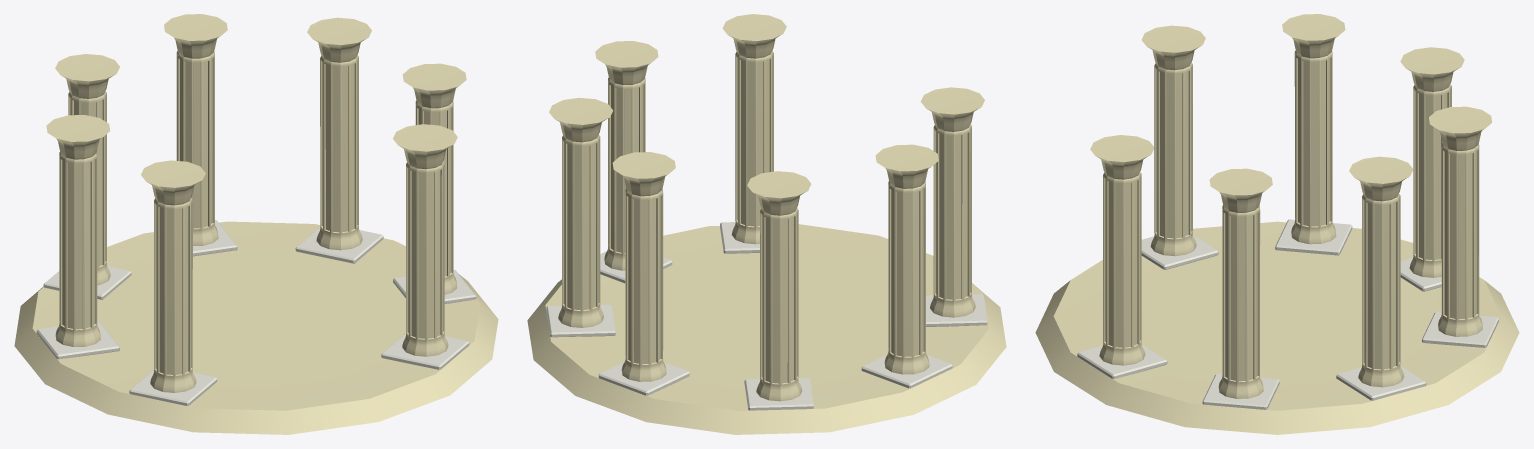
Rendered from Gazebo2.fbx.
3 renders of one model, left to right at view 1: azimuth 30°, elevation 25°; view 2: azimuth 150°, elevation 25°; view 3: azimuth 270°, elevation 25°, orthographic.
Parts seen in each view (by area): view 1: pCylinder32; view 2: pCylinder32; view 3: pCylinder32.
Boxes of the visible parts, bbox=[...] form: pCylinder32: bbox=[14, 14, 498, 434]; pCylinder32: bbox=[527, 14, 1006, 434]; pCylinder32: bbox=[1035, 14, 1519, 434].
Bounding box in the file's own units: 133 × 69.02 × 133.
